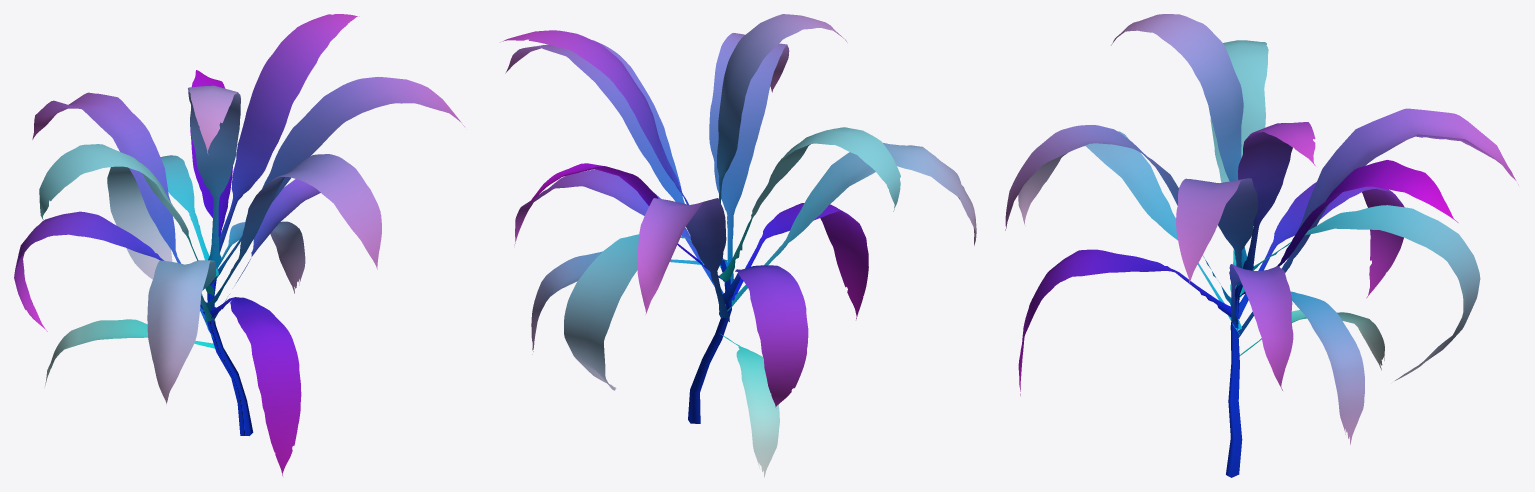
The model's file is Pink_Cordyline_sfhhN_Raw_sfhhN_VarA_LOD0.fbx.
3 views of the same model, side by side, from view 1: azimuth 30°, elevation 25°; view 2: azimuth 150°, elevation 25°; view 3: azimuth 270°, elevation 25° (orthographic). The views are drawn at different scales.
Parts seen in each view (by area): view 1: _aa65_VarA_High; view 2: _aa65_VarA_High; view 3: _aa65_VarA_High.
Part boxes in pixels (box(x1,y1,x2,y2)): _aa65_VarA_High: box(14, 14, 464, 475); _aa65_VarA_High: box(500, 14, 976, 477); _aa65_VarA_High: box(1005, 14, 1518, 477).
Size of the model in its own units: 118 by 107 by 119.
